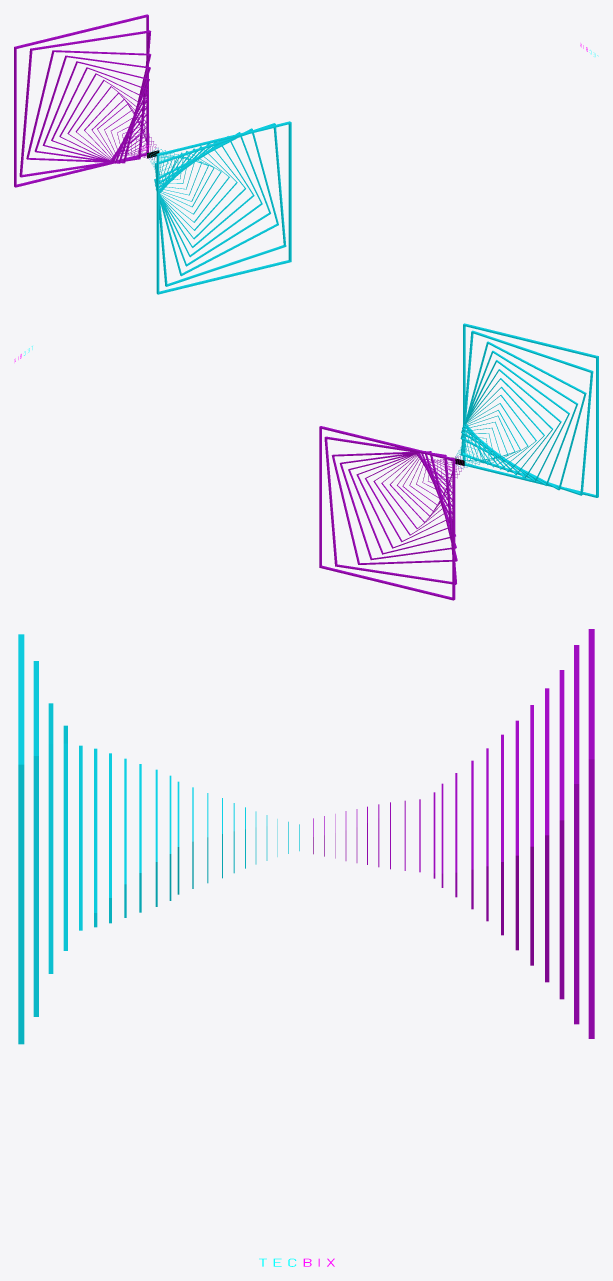
The model's file is aboutModel.glb.
3 views of the same model, one above another, from view 1: azimuth 30°, elevation 25°; view 2: azimuth 150°, elevation 25°; view 3: azimuth 270°, elevation 25° (orthographic). The views are drawn at different scales.
Parts seen in each view (by area): view 1: Object_2.001, Object_2; view 2: Object_2, Object_2.001; view 3: Object_2, Object_2.001.
Part boxes in pixels (<box>): Object_2.001: <box>147,121,291,294</box>; Object_2: <box>14,14,158,187</box>; Object_2: <box>319,426,464,600</box>; Object_2.001: <box>455,323,598,497</box>; Object_2: <box>313,629,594,1038</box>; Object_2.001: <box>18,634,299,1044</box>.
Size of the model in its own units: 58.94 by 16.01 by 29.34.
